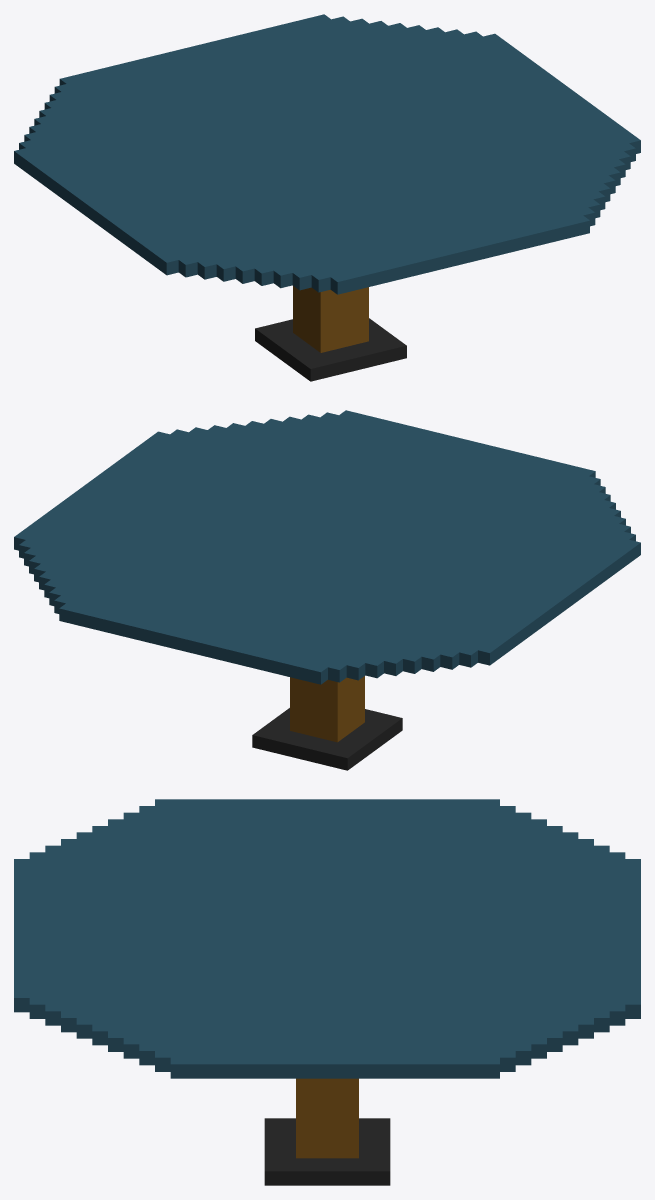
Rendered from Table_Round.obj.
3 renders of one model, top to bottom at view 1: azimuth 30°, elevation 25°; view 2: azimuth 150°, elevation 25°; view 3: azimuth 270°, elevation 25°, orthographic. The views are drawn at different scales.
Size of the model in its own units: 4 by 1.6 by 4.
Materials: 1 (1 with a texture image).
